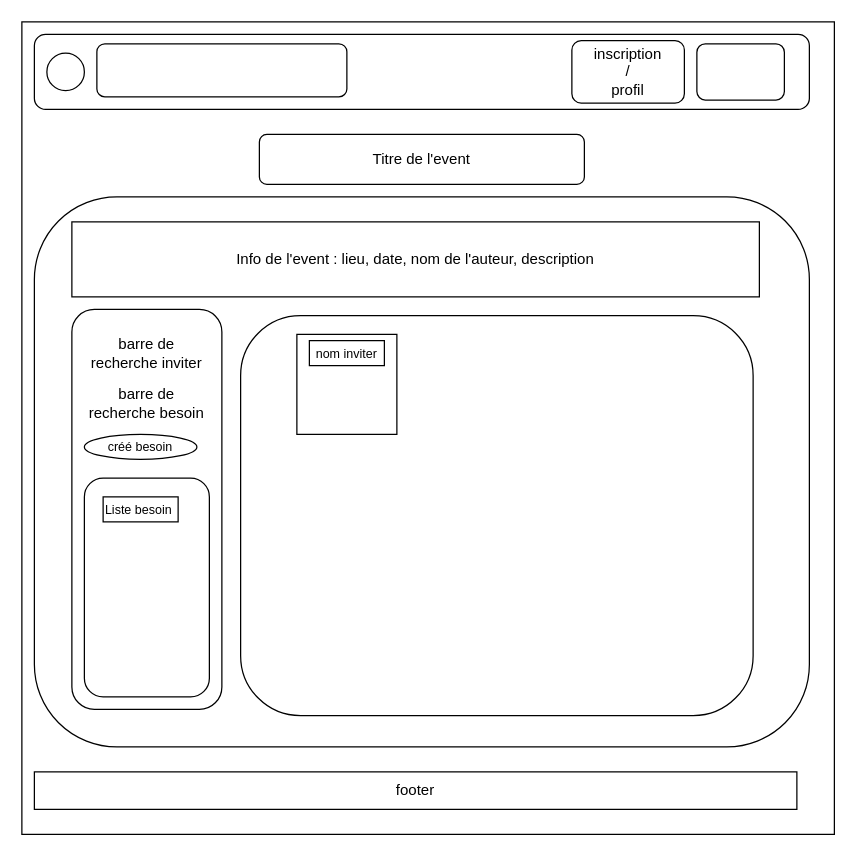
This 856x856 diagram has some shape labels left out. Here are the shapes that lost their labels. From the top down, the box of each, then its label:
(46, 52, 84, 91): logo
(96, 42, 347, 97): nom du site
(696, 42, 784, 100): connexion / Deconnexion
